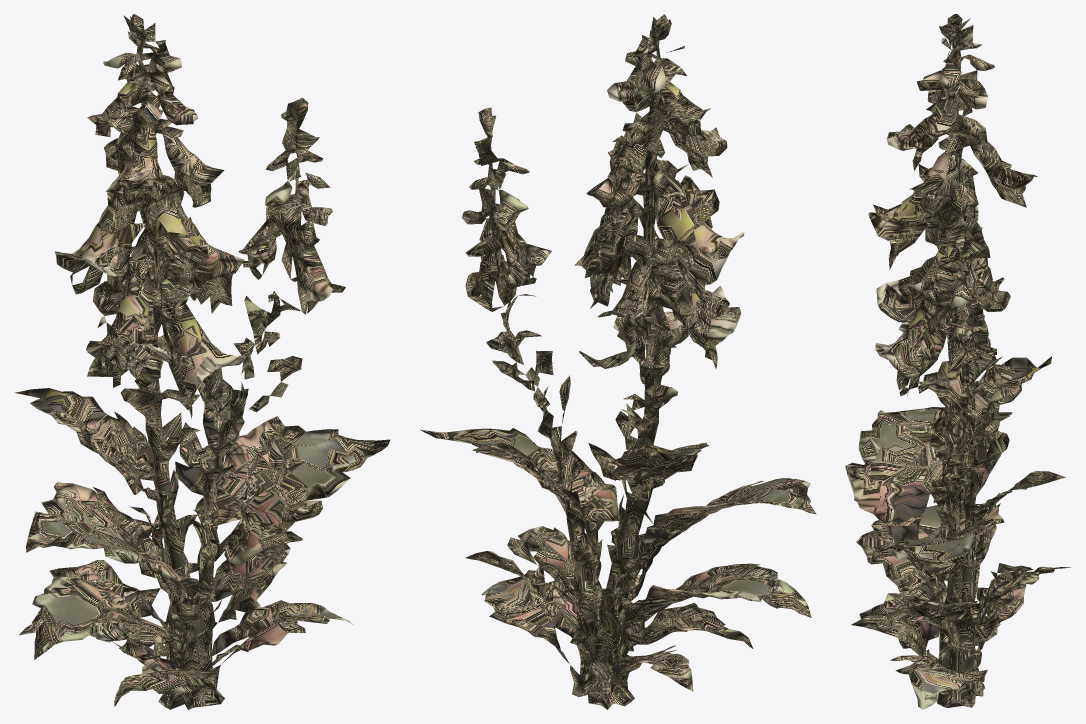
3 views of the same model, side by side, from view 1: azimuth 30°, elevation 25°; view 2: azimuth 150°, elevation 25°; view 3: azimuth 270°, elevation 25° (orthographic). The views are drawn at different scales.
Bounding box in the file's own units: 1.09 × 1.9 × 0.596.
1 material, 1 textured.
